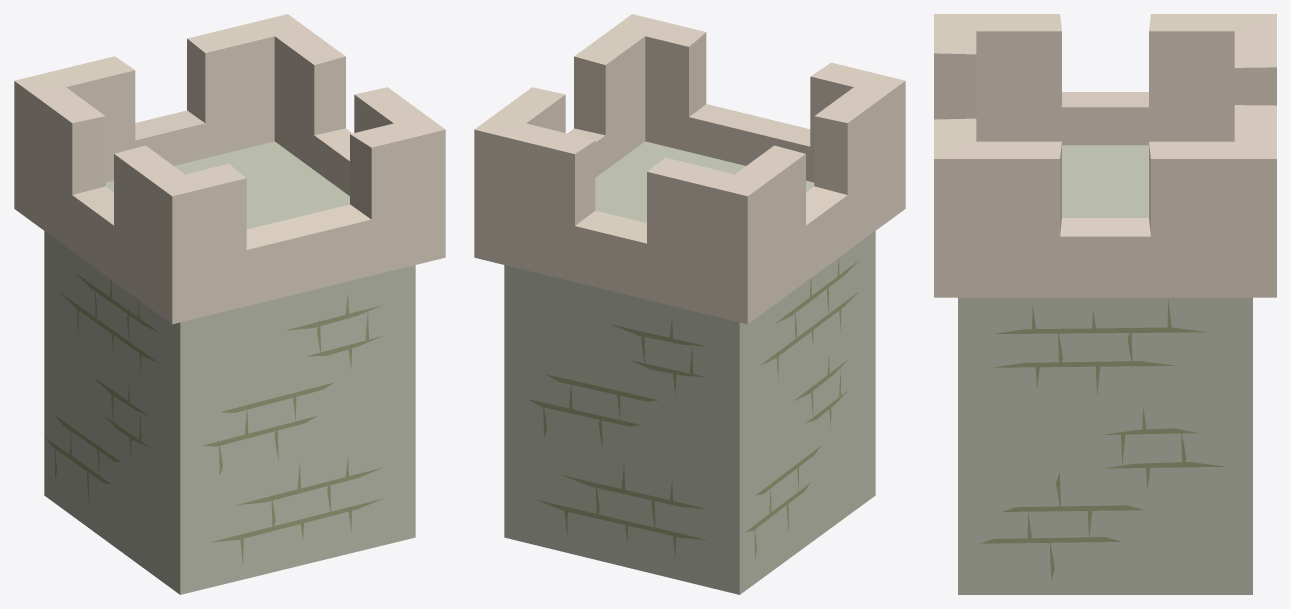
File: tower_blank.fbx
3 views of the same model, side by side, from view 1: azimuth 30°, elevation 25°; view 2: azimuth 150°, elevation 25°; view 3: azimuth 270°, elevation 25° (orthographic). The views are drawn at different scales.
Parts seen in each view (by area): view 1: tower_blank; view 2: tower_blank; view 3: tower_blank.
Boxes of the visible parts, x1,y1,x2,y2 form: tower_blank: (14, 14, 445, 594); tower_blank: (474, 14, 905, 594); tower_blank: (934, 14, 1276, 594).
Bounding box in the file's own units: 5.81 × 5.81 × 8.35.
